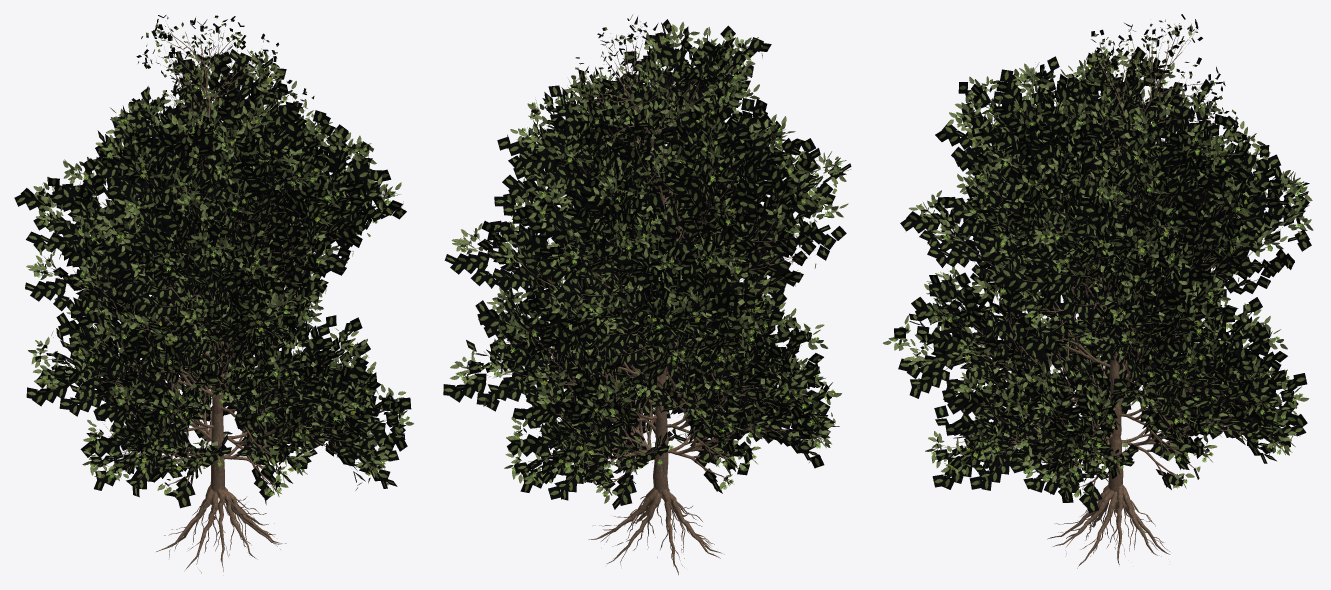
The picture shows the model from 3 angles, left to right: view 1: azimuth 30°, elevation 25°; view 2: azimuth 150°, elevation 25°; view 3: azimuth 270°, elevation 25°; orthographic projection. The views are drawn at different scales.
Size of the model in its own units: 216 by 317 by 234.
Materials: 6 (6 with a texture image).
